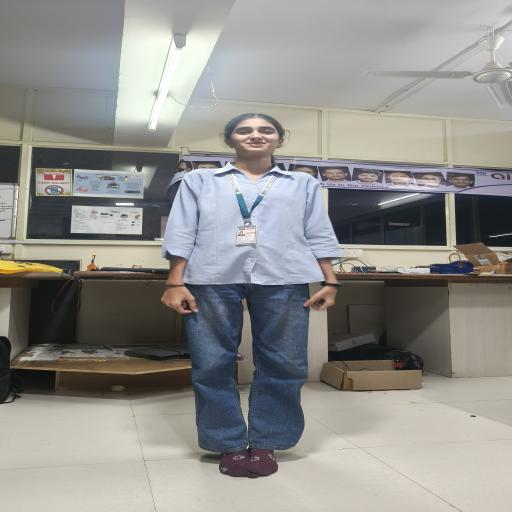survivor: (159, 112, 345, 480)
